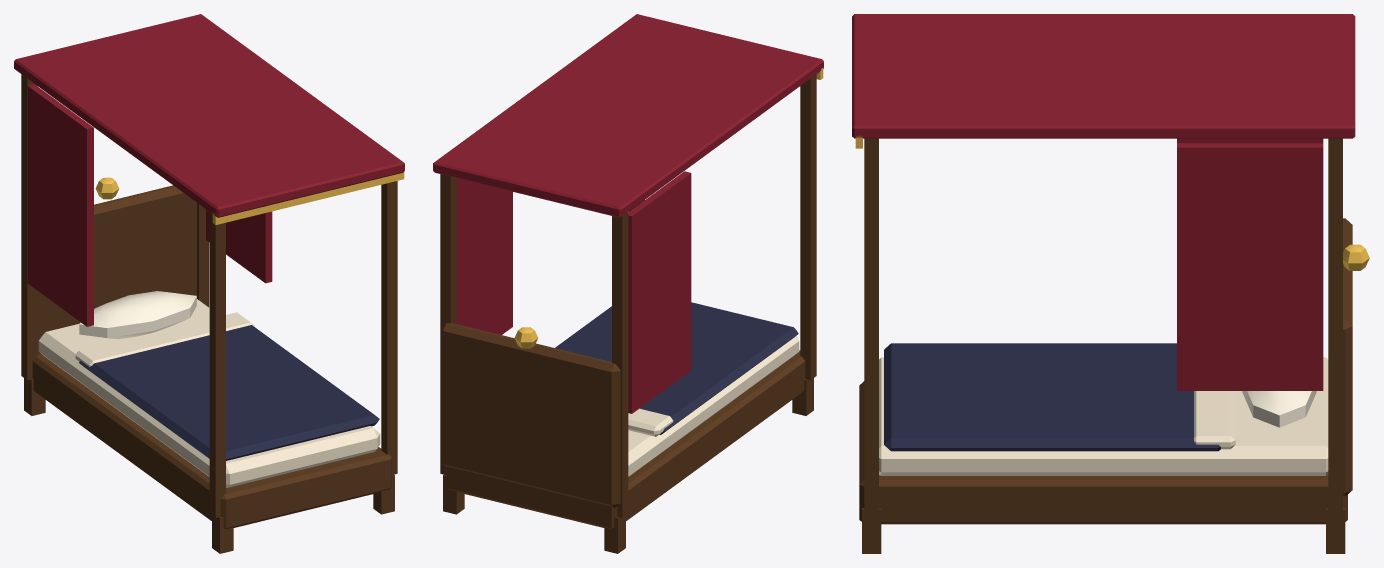
Rendered from PR_Furniture_Yatak_T3.fbx.
3 renders of one model, left to right at view 1: azimuth 30°, elevation 25°; view 2: azimuth 150°, elevation 25°; view 3: azimuth 270°, elevation 25°, orthographic. The views are drawn at different scales.
Parts seen in each view (by area): view 1: PR_Furniture_Yatak_T3; view 2: PR_Furniture_Yatak_T3; view 3: PR_Furniture_Yatak_T3.
Part boxes in pixels (x1,y1,x2,y2): PR_Furniture_Yatak_T3: (14,14,404,553); PR_Furniture_Yatak_T3: (433,14,823,553); PR_Furniture_Yatak_T3: (852,14,1369,553).
Bounding box in the file's own units: 1.1 × 1.95 × 2.12.
